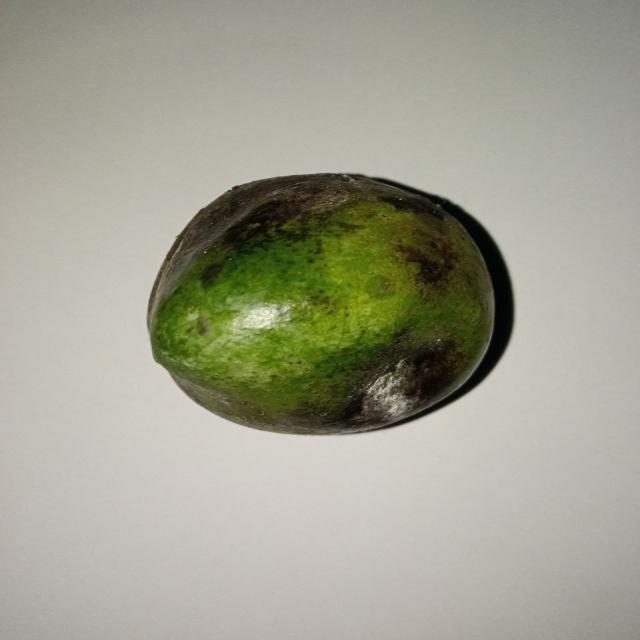rotten_mango: (139, 171, 498, 435)
